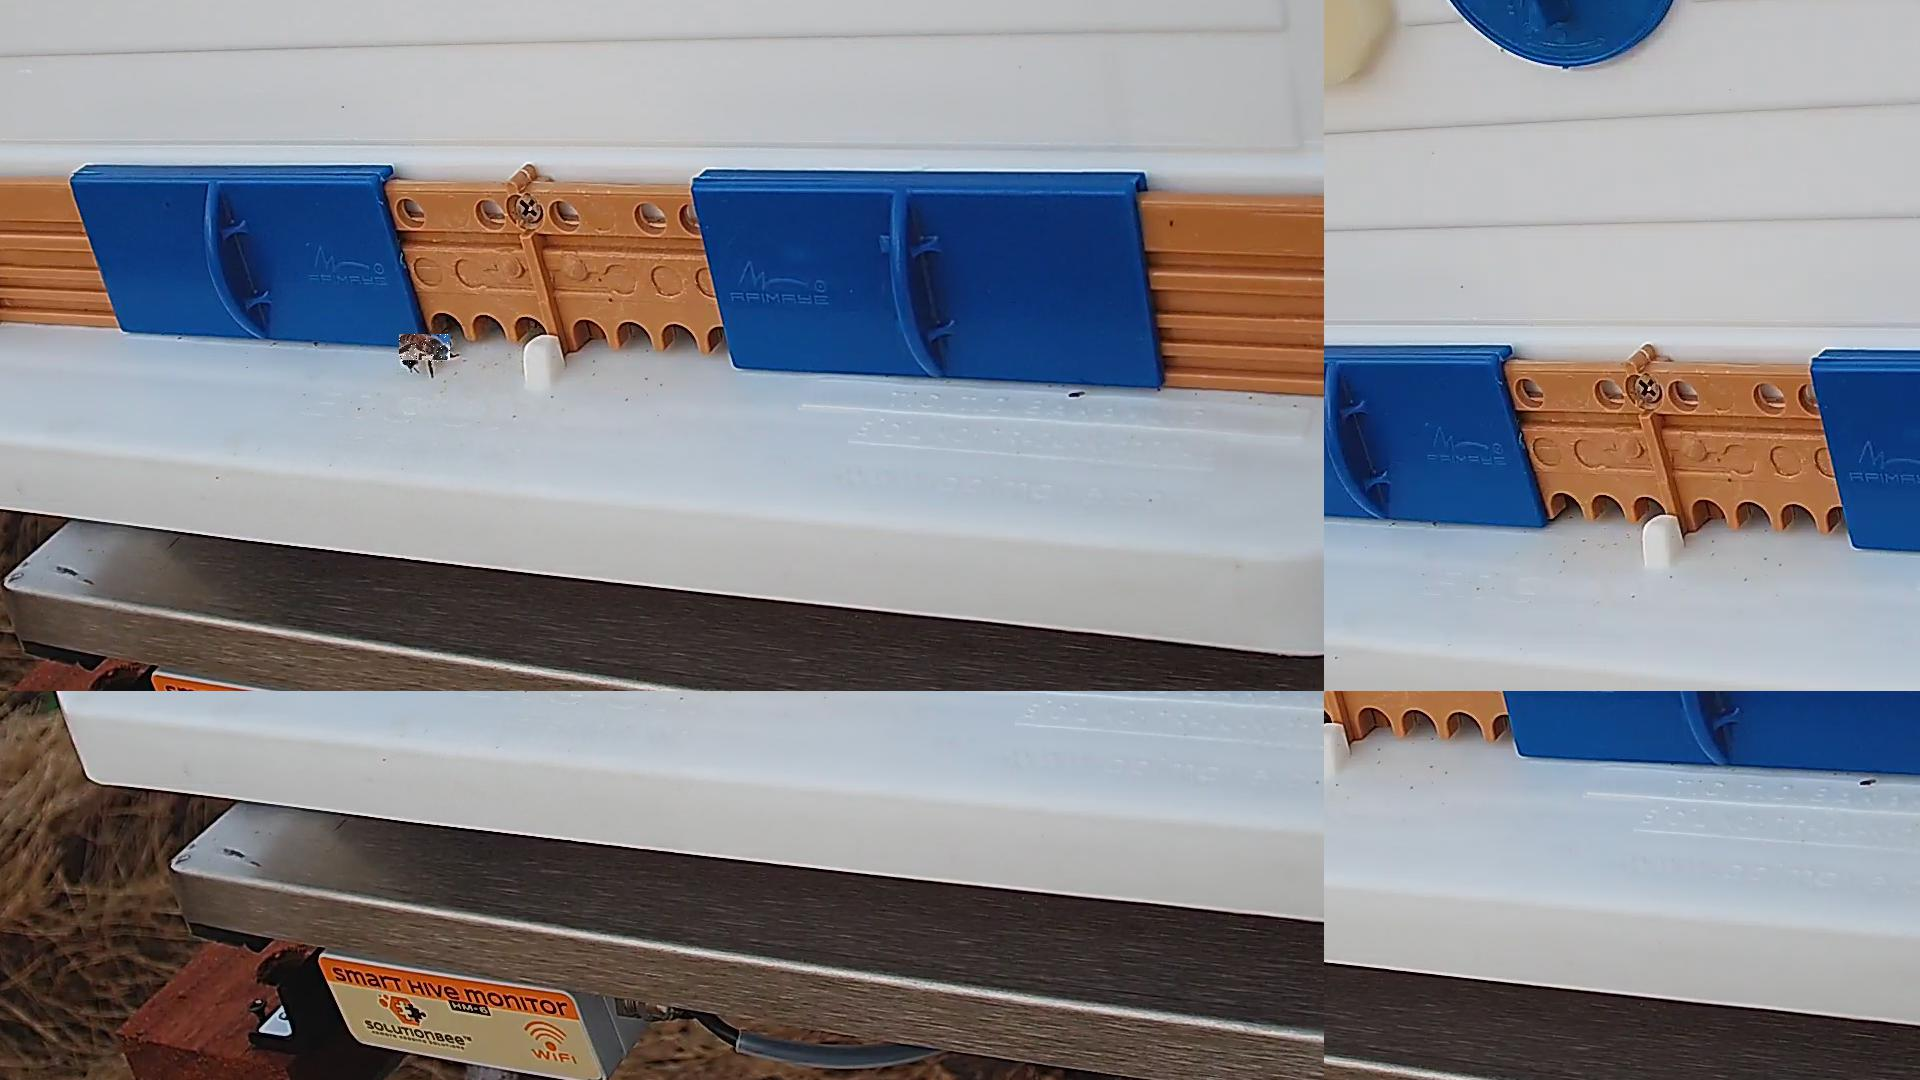bee: (400, 335, 451, 365)
